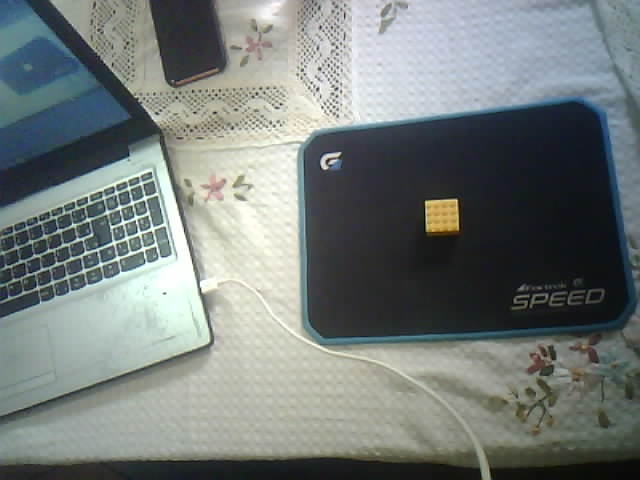lego: (423, 198, 459, 236)
